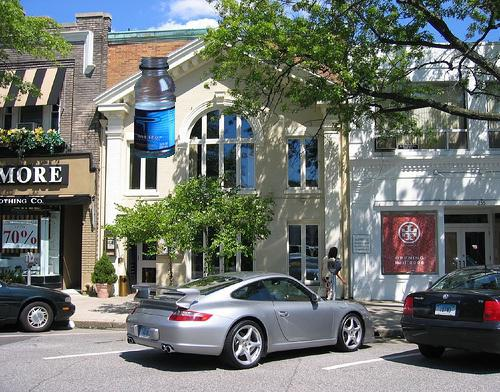tampered: (135, 58, 176, 158)
